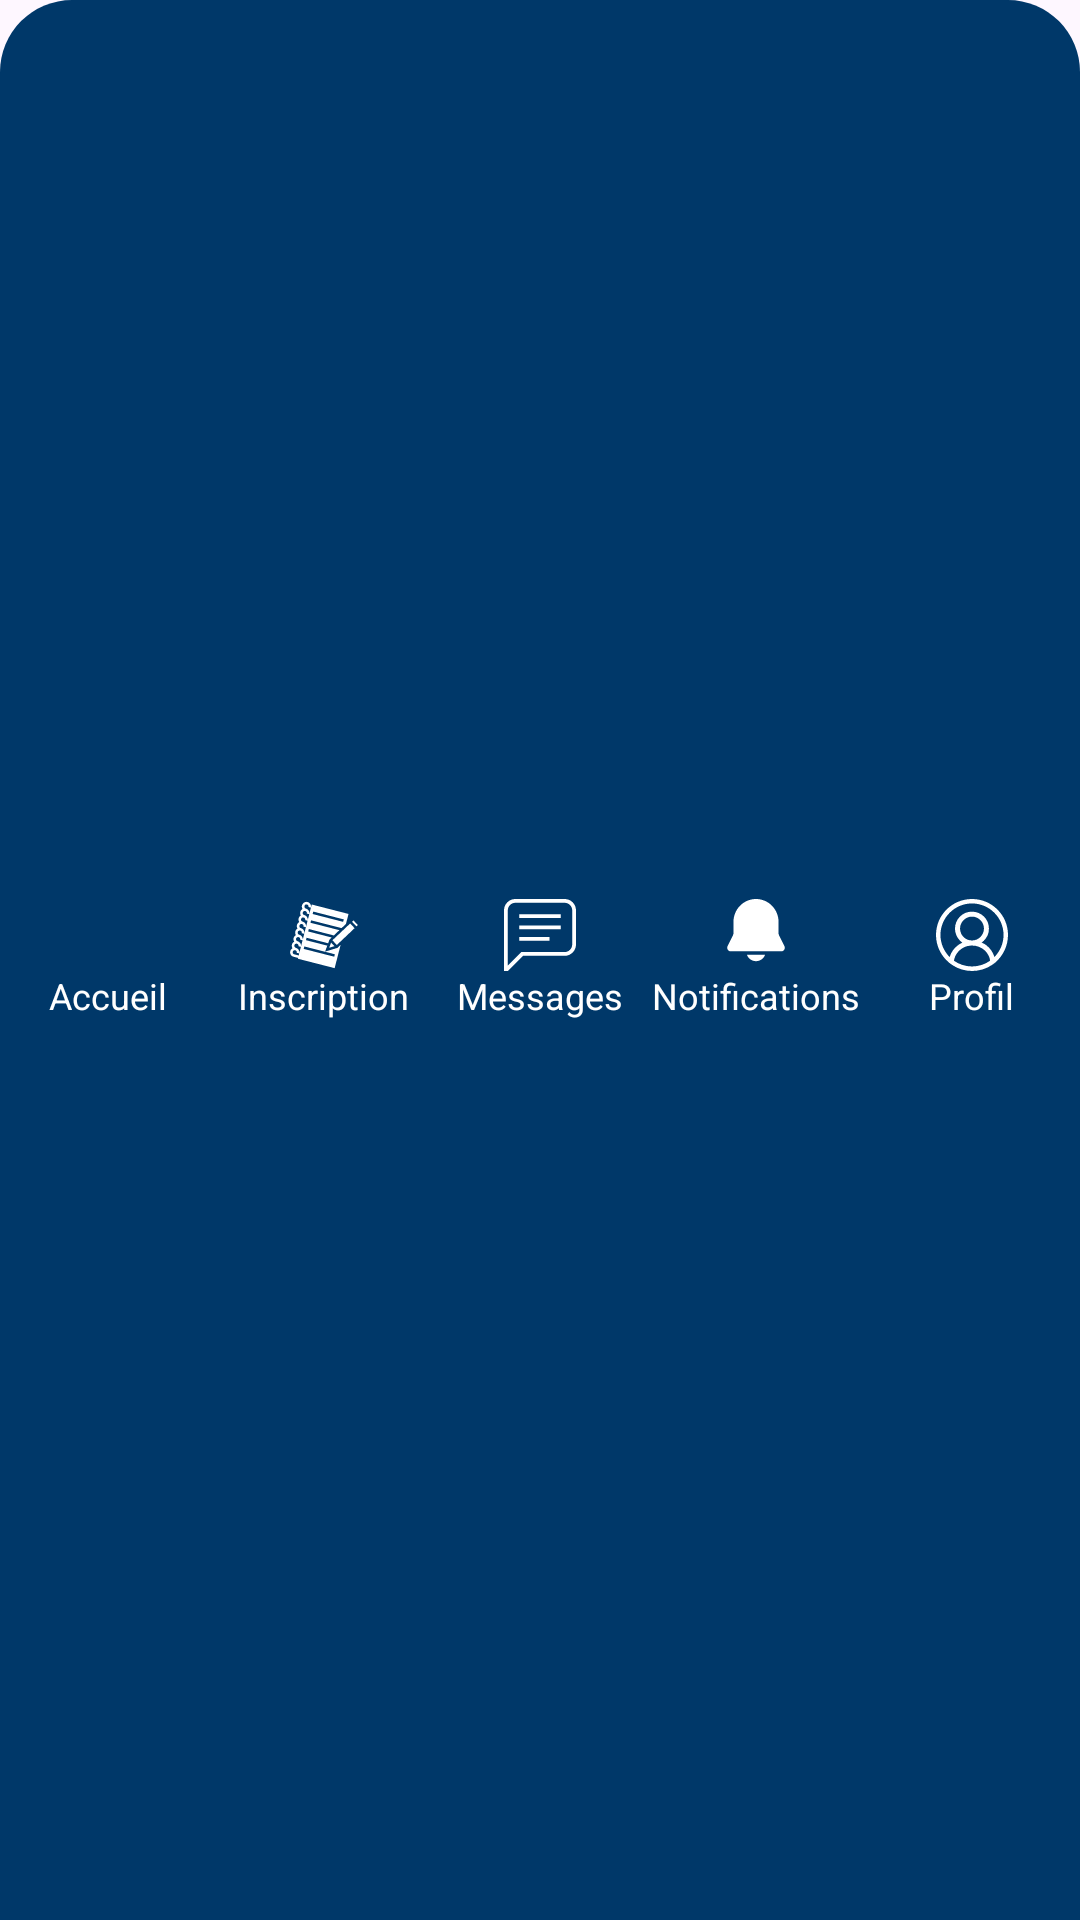

Point at icon controls on the screen. Image size 1080x1920, points as (x=x, y=y).
Notes: (x=324, y=934)
